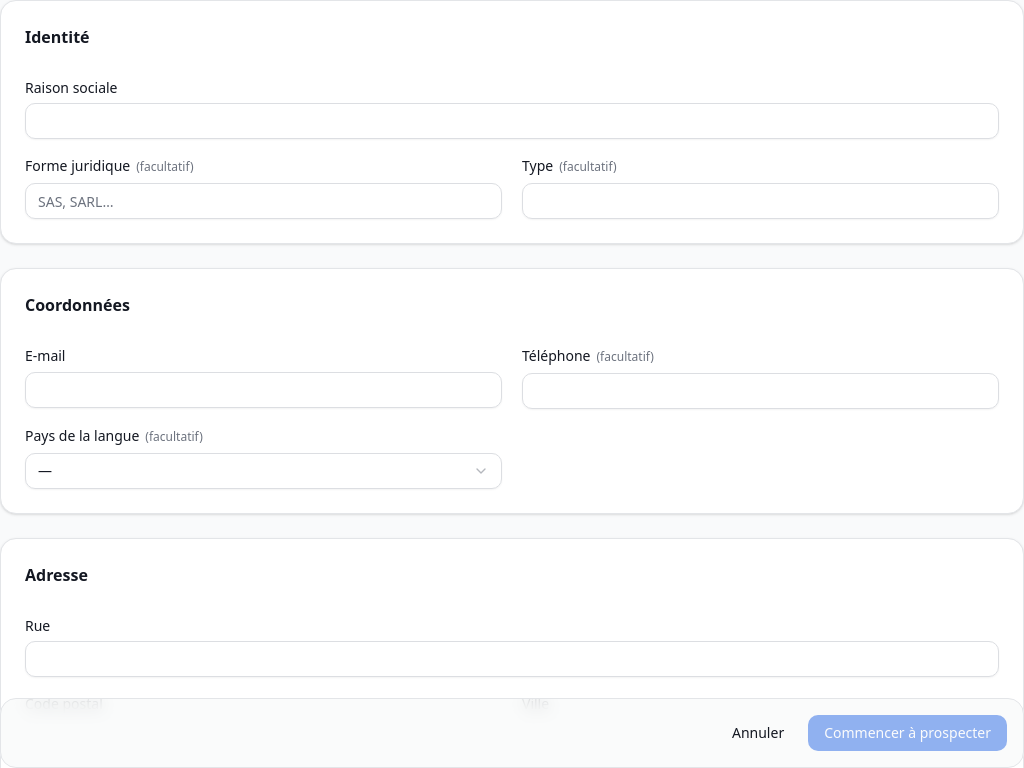
Test: StartProspectingForm › shows the API violations on the nested fields
Type "ACME" into the field labelled "Raison sociale".
click(512, 121); type("ACME")  # box [25, 103, 999, 139]
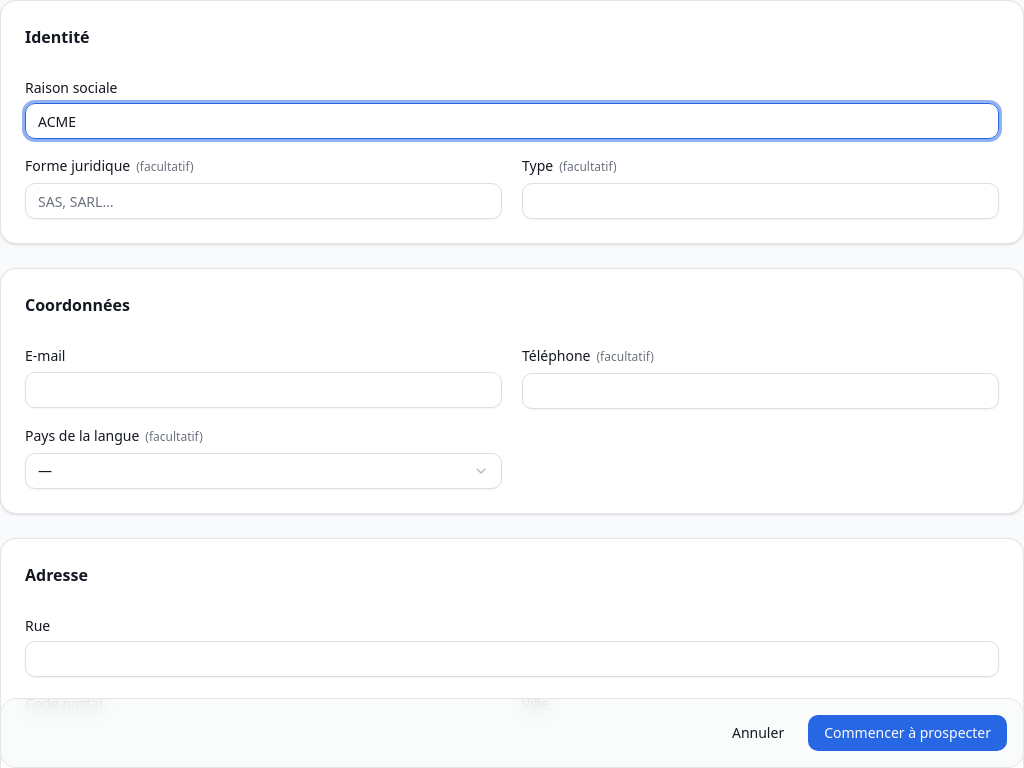
Click the button "Commencer à prospecter".
click(908, 733)  # box [808, 715, 1007, 751]
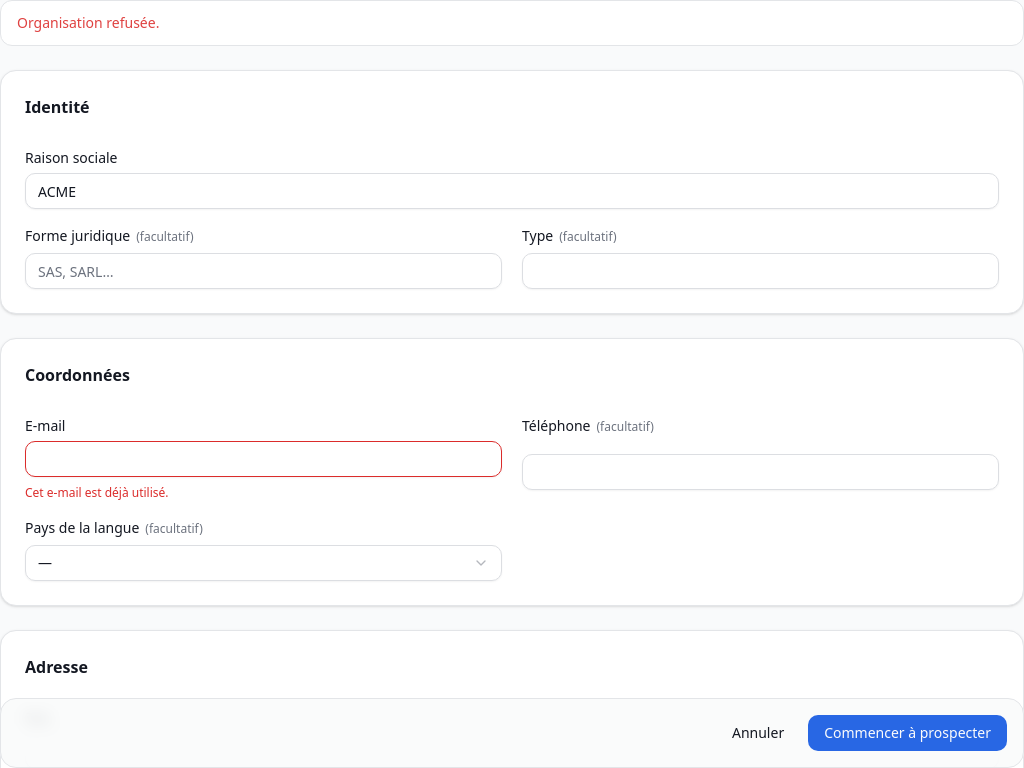
Result: the text "Cet e-mail est déjà utilisé." is shown at [25, 484, 168, 501]
Result: the message reads "Organisation refusée." at [17, 13, 159, 32]
